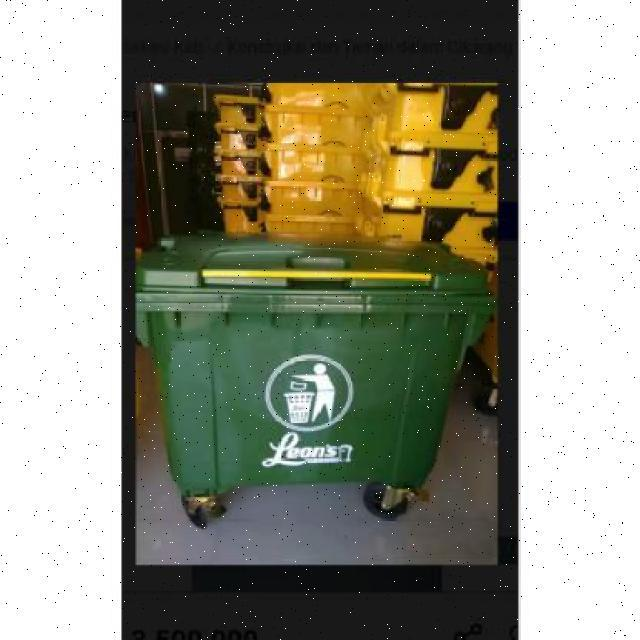garbage container: (137, 225, 497, 536)
